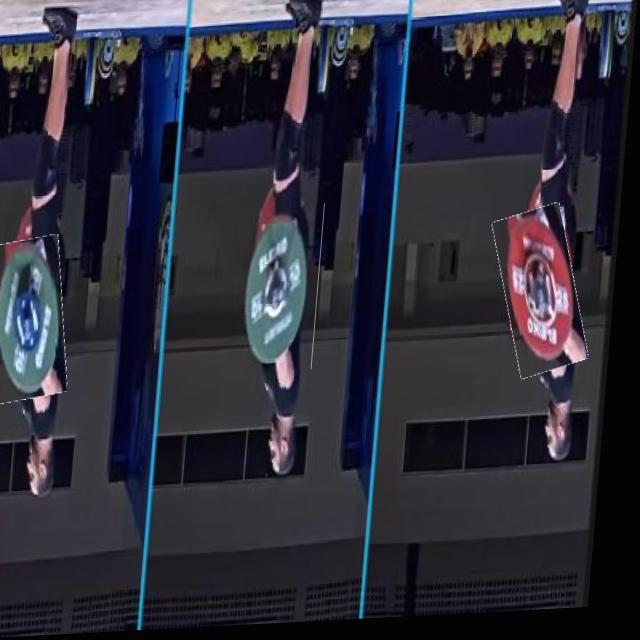barbell: (497, 211, 596, 384), (238, 208, 330, 377), (1, 237, 79, 404)
